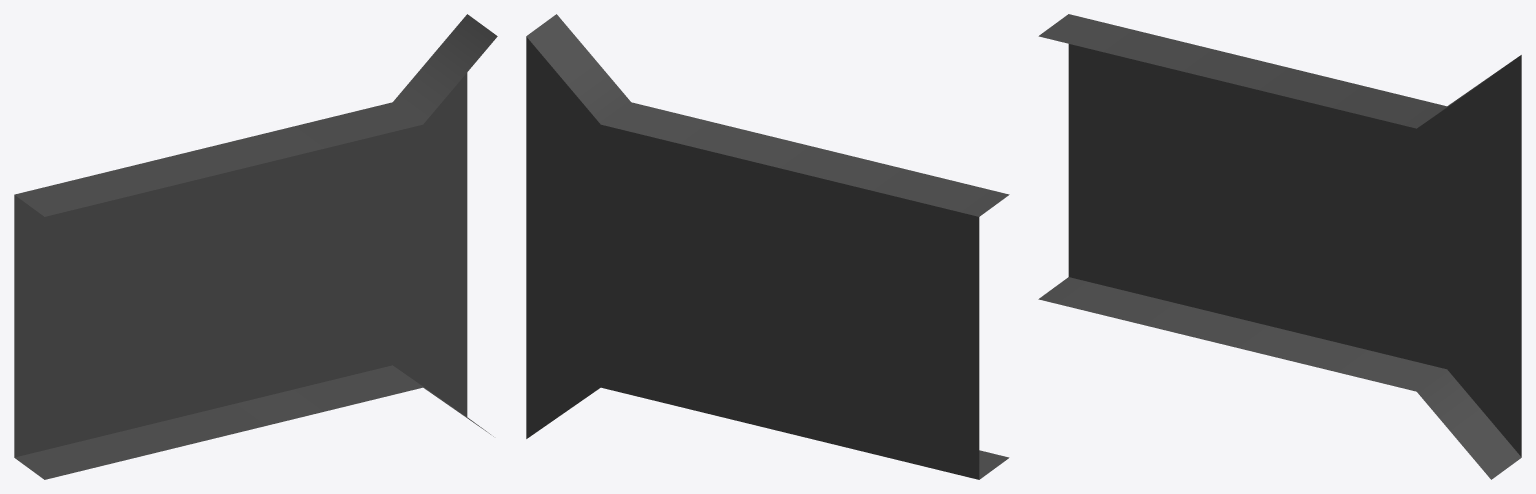
File: SM_cable_right_10.fbx
3 renders of one model, left to right at view 1: azimuth 30°, elevation 25°; view 2: azimuth 150°, elevation 25°; view 3: azimuth 330°, elevation 25°, orthographic.
Visible parts, largest first — view 1: SM_cable_right_08; view 2: SM_cable_right_08; view 3: SM_cable_right_08.
Part boxes in pixels (box(x1,y1,x2,y2)): SM_cable_right_08: box(14, 14, 497, 479); SM_cable_right_08: box(526, 14, 1009, 479); SM_cable_right_08: box(1038, 14, 1521, 479).
Bounding box in the file's own units: 87.91 × 74.74 × 10.24.
1 material, 1 textured.
